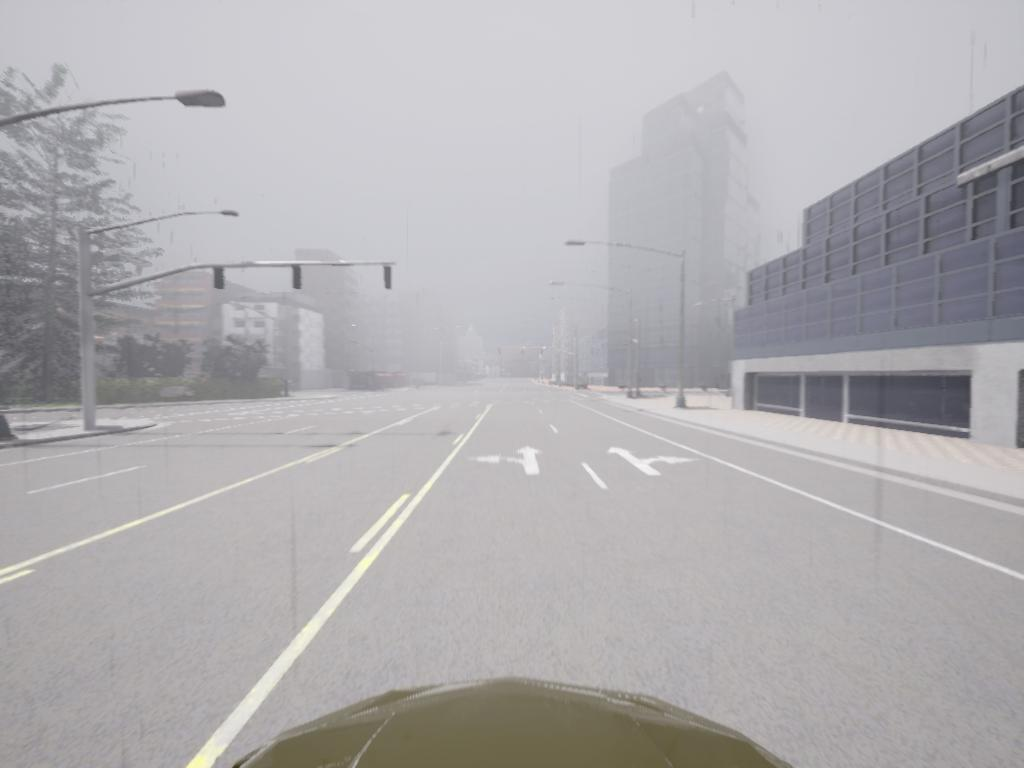traffic_light: (293, 266, 305, 293), (213, 267, 226, 290), (384, 267, 393, 290), (541, 350, 544, 358), (499, 349, 502, 355), (521, 350, 524, 356)
